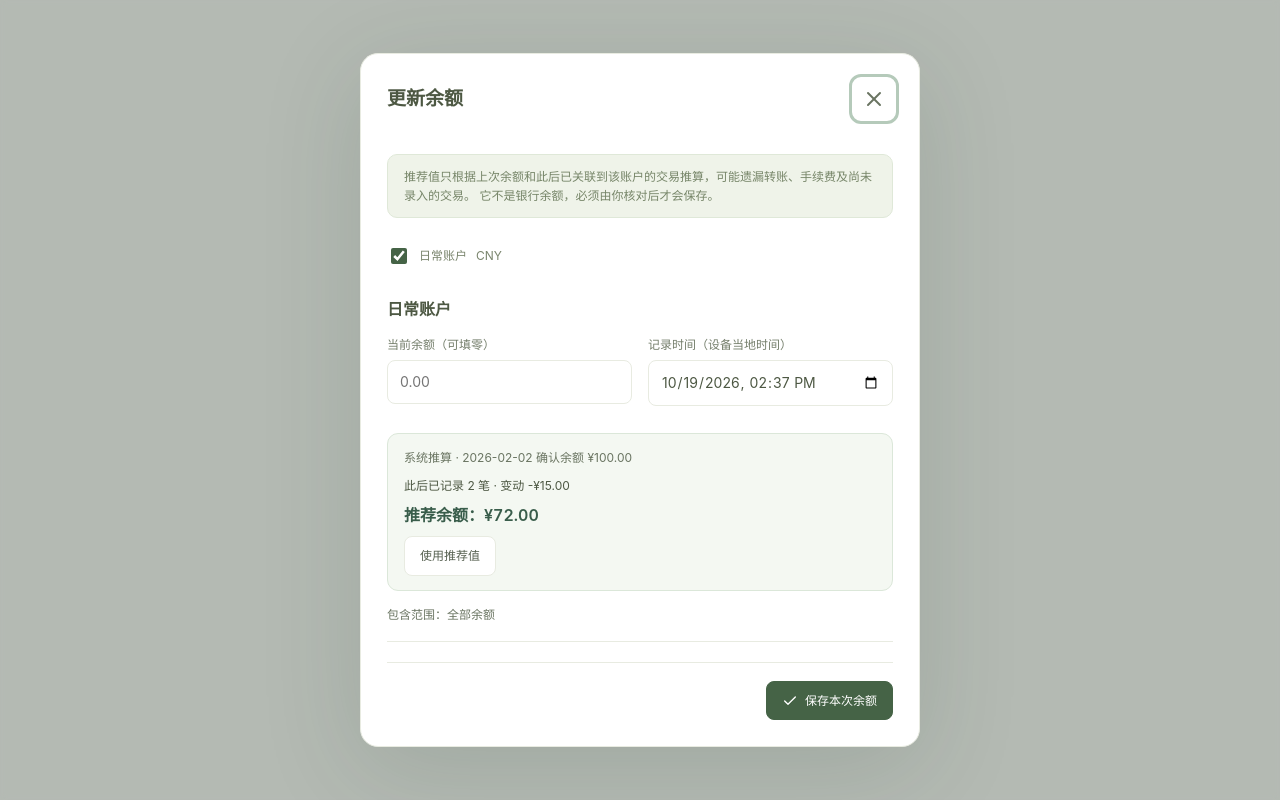
ignores an older read after closing and reopening the balance editor
The image size is (1280, 800).
Click the button "使用推荐值".
click(450, 556)  # box [404,536,496,576]
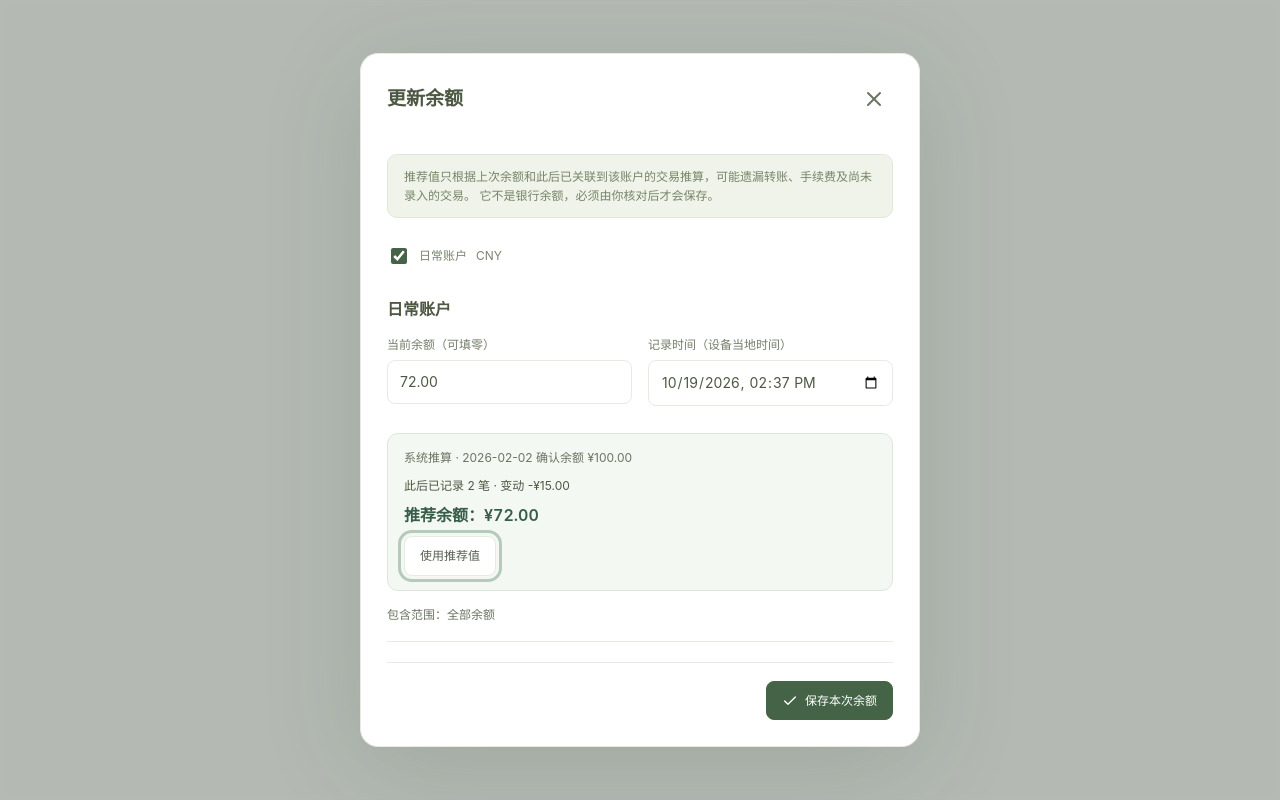
Check: the field labelled "当前余额（可填零）" holds "72.00", box [387,360,632,404]
